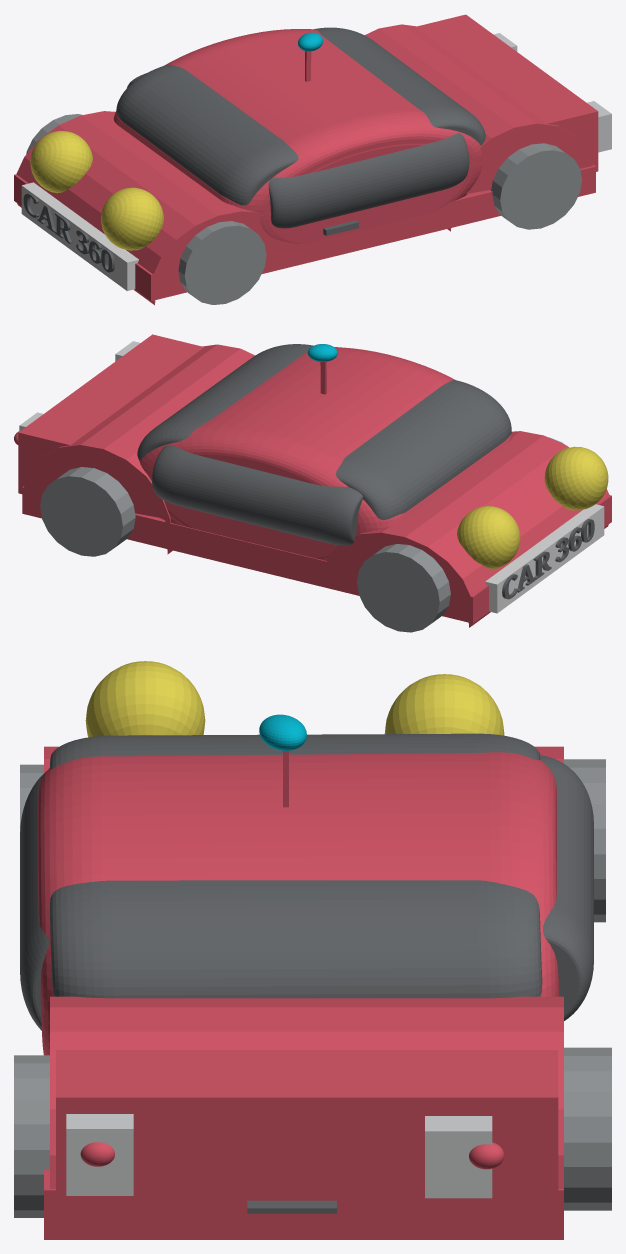
The model's file is Cool Jofo-Wluff.glb.
The picture shows the model from 3 angles, top to bottom: view 1: azimuth 30°, elevation 25°; view 2: azimuth 150°, elevation 25°; view 3: azimuth 270°, elevation 25°; orthographic projection. The views are drawn at different scales.
Visible parts, largest first — view 1: Mesh_Mesh_head_geo.001_lambert2SG.001; view 2: Mesh_Mesh_head_geo.001_lambert2SG.001; view 3: Mesh_Mesh_head_geo.001_lambert2SG.001.
Boxes of the visible parts, x1,y1,x2,y2 form: Mesh_Mesh_head_geo.001_lambert2SG.001: [14, 14, 611, 305]; Mesh_Mesh_head_geo.001_lambert2SG.001: [14, 334, 611, 632]; Mesh_Mesh_head_geo.001_lambert2SG.001: [14, 661, 611, 1239].
Size of the model in its own units: 180 by 63.35 by 100.
